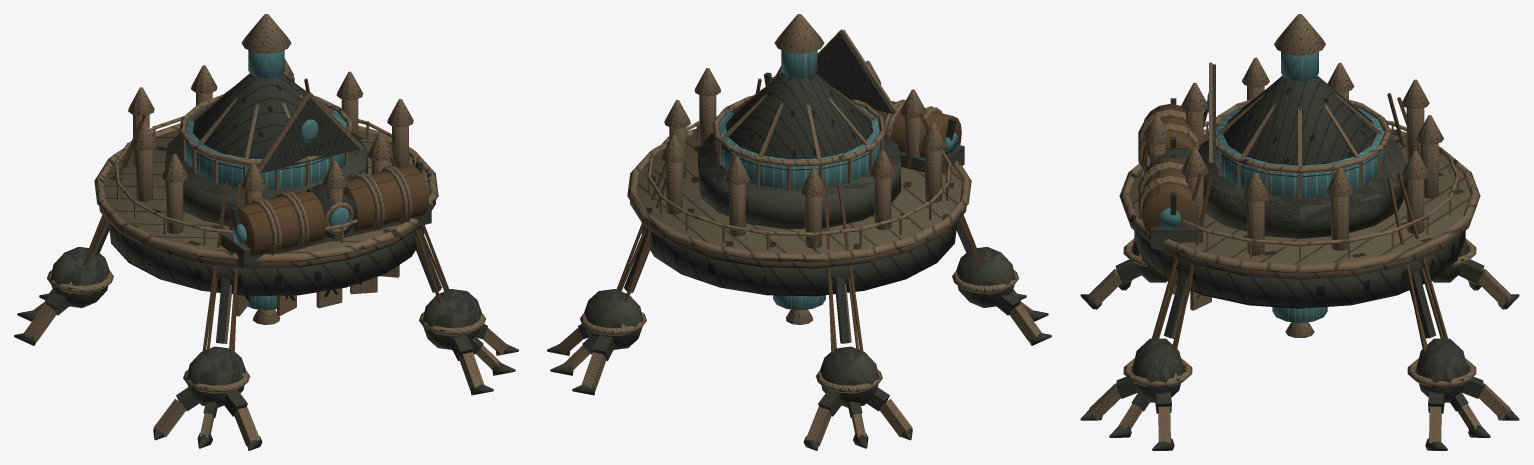
The model's file is salvage-claw.glb.
The picture shows the model from 3 angles, left to right: view 1: azimuth 30°, elevation 25°; view 2: azimuth 150°, elevation 25°; view 3: azimuth 270°, elevation 25°; orthographic projection. The views are drawn at different scales.
Parts seen in each view (by area): view 1: crown, anchor_feet, winch; view 2: crown, anchor_feet, winch; view 3: crown, anchor_feet, winch.
Part boxes in pixels (x1,y1,x2,y2): crown: [94, 14, 438, 324]; anchor_feet: [14, 77, 518, 450]; winch: [220, 161, 431, 268]; crown: [627, 14, 971, 324]; anchor_feet: [547, 77, 1051, 450]; winch: [764, 72, 964, 173]; crown: [1119, 14, 1480, 337]; anchor_feet: [1080, 93, 1519, 450]; winch: [1138, 98, 1202, 248].
Size of the model in its own units: 11.4 by 10.03 by 11.4.
1 material, 1 textured.
